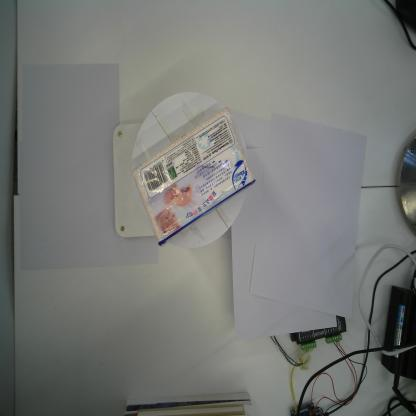Tissue: (133, 106, 255, 248)
